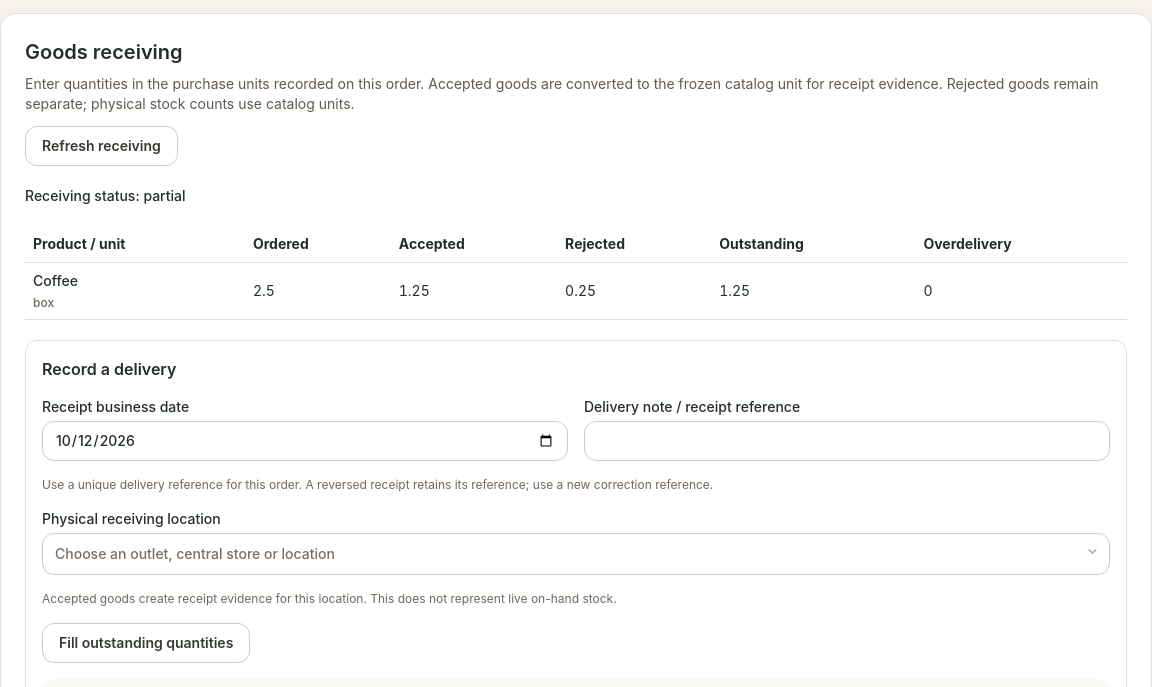
uses the reviewed order revision and frozen purchase quantities, then refreshes
This screenshot has width=1152, height=687.
Type "DN-2" into the field labelled "Delivery note / receipt reference" at coordinates (847, 441), box [584,421,1110,461]
(page scrolled)
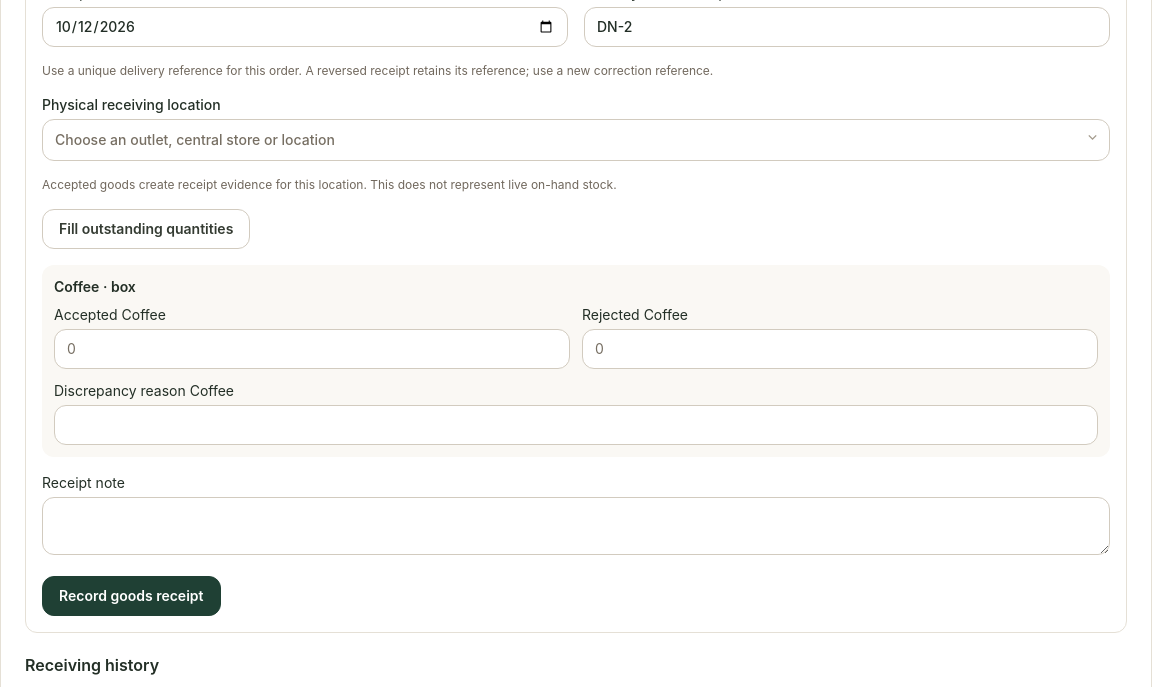
Type "1.25" into the number field labelled "Accepted Coffee" at coordinates (312, 349), box [54,329,570,369]
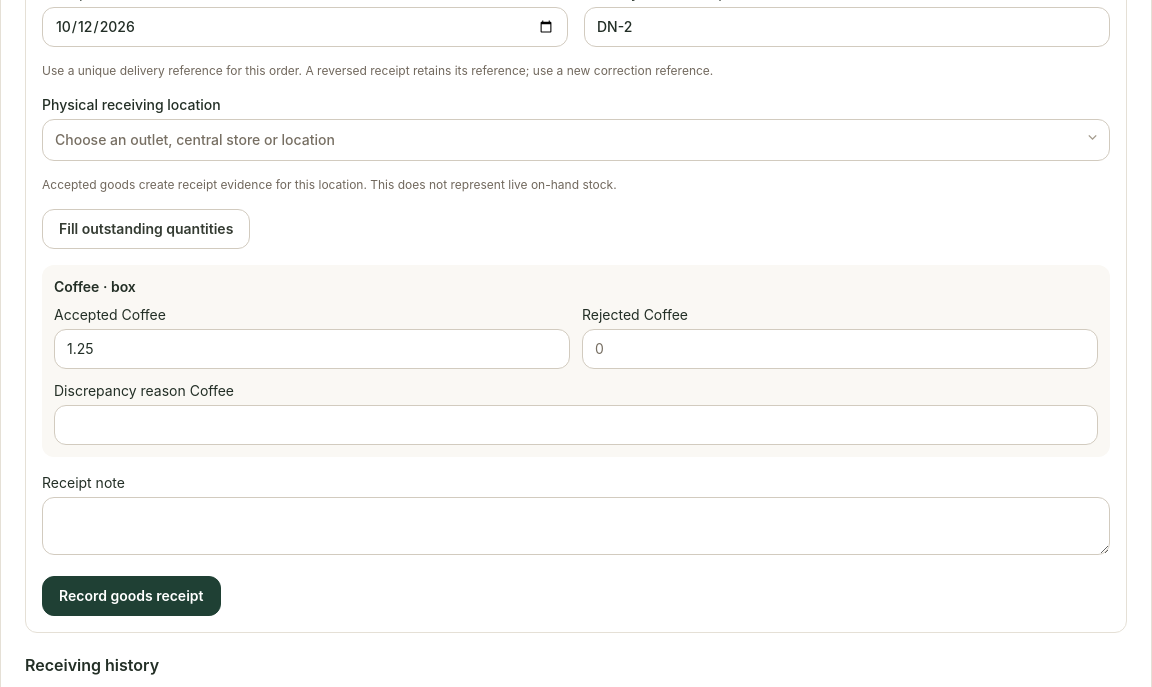
Focus the dropdown labelled "Physical receiving location" at coordinates (576, 140), box [42,119,1110,161]
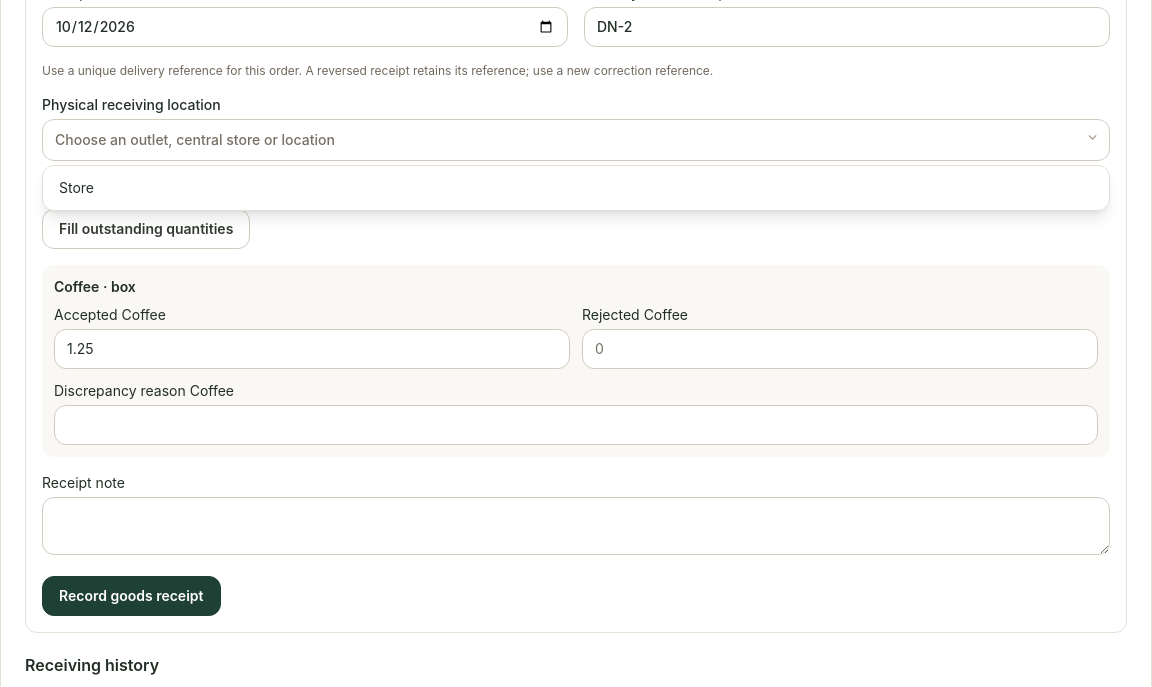
Click the option "Store" at coordinates (76, 188), box [59,179,94,196]
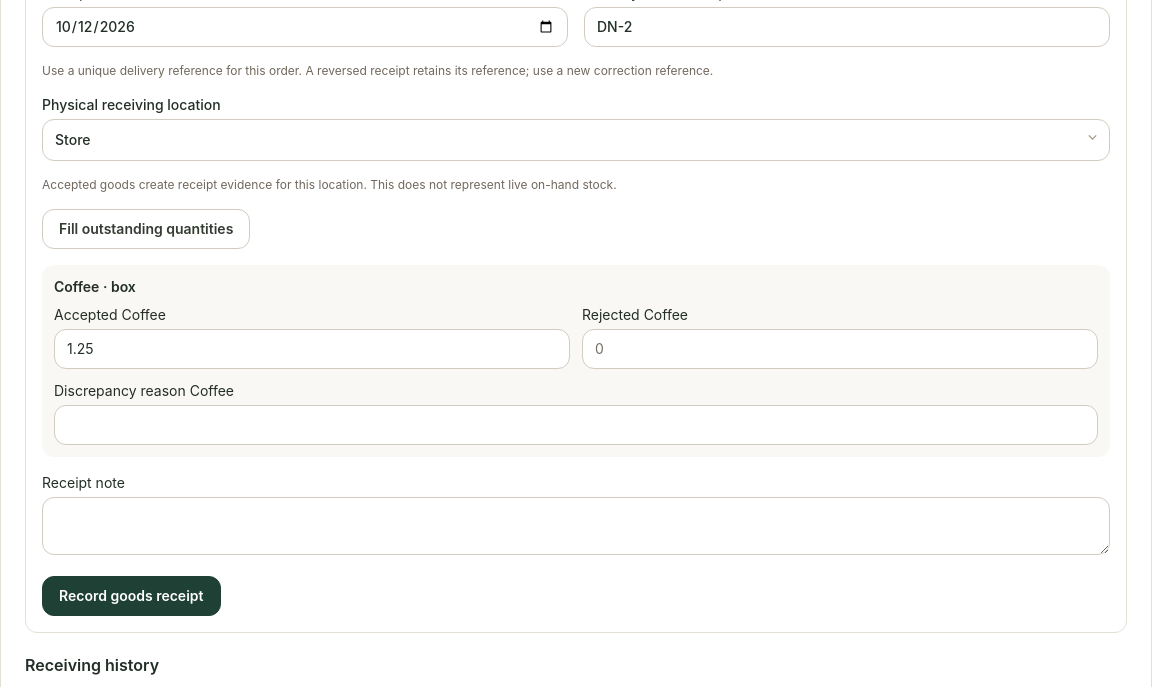
Click the button "Record goods receipt" at coordinates (131, 596), box [42,576,220,616]
(page scrolled)
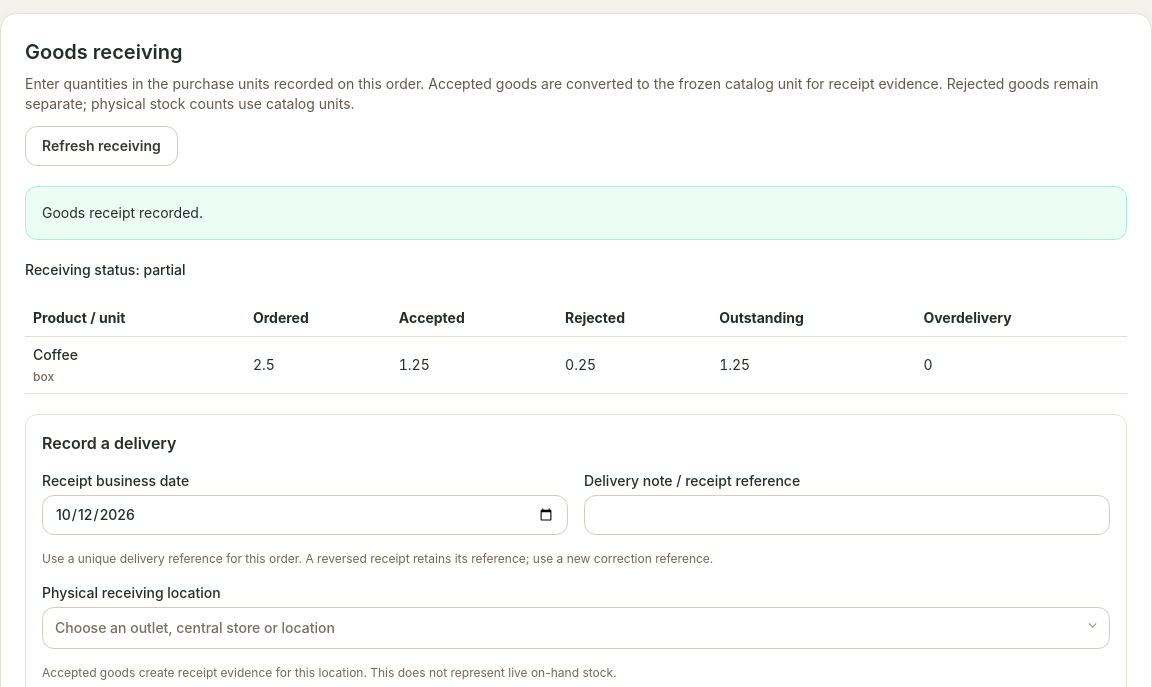
Check: the text "Goods receipt recorded." is shown, box [25,186,1127,240]
